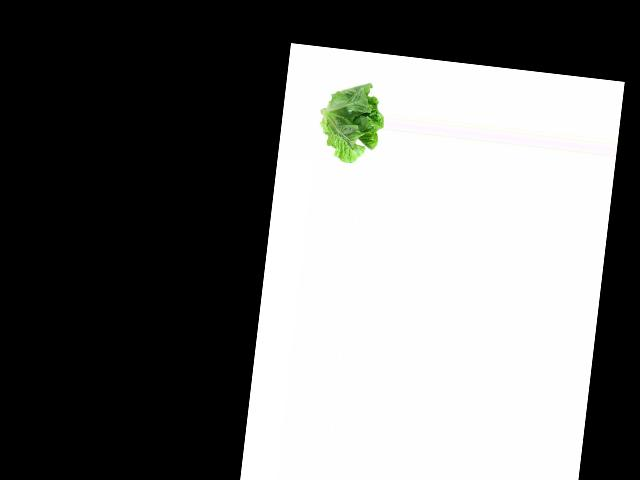lettuce: (318, 77, 388, 165)
